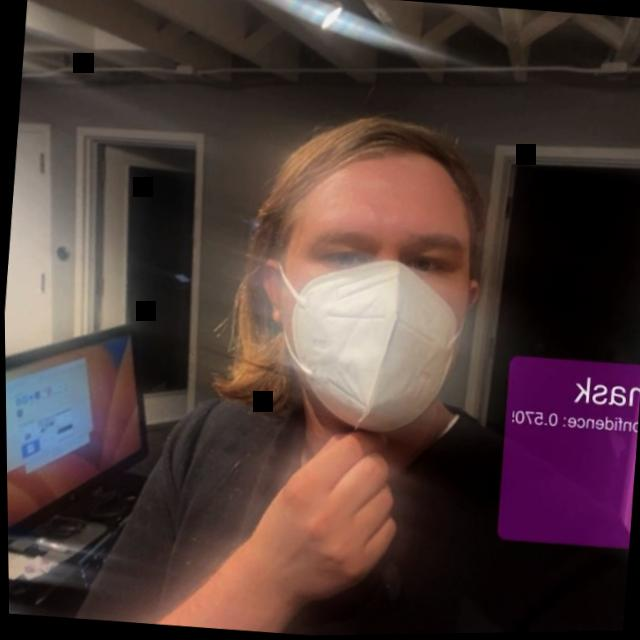Mask: (236, 99, 513, 461)
